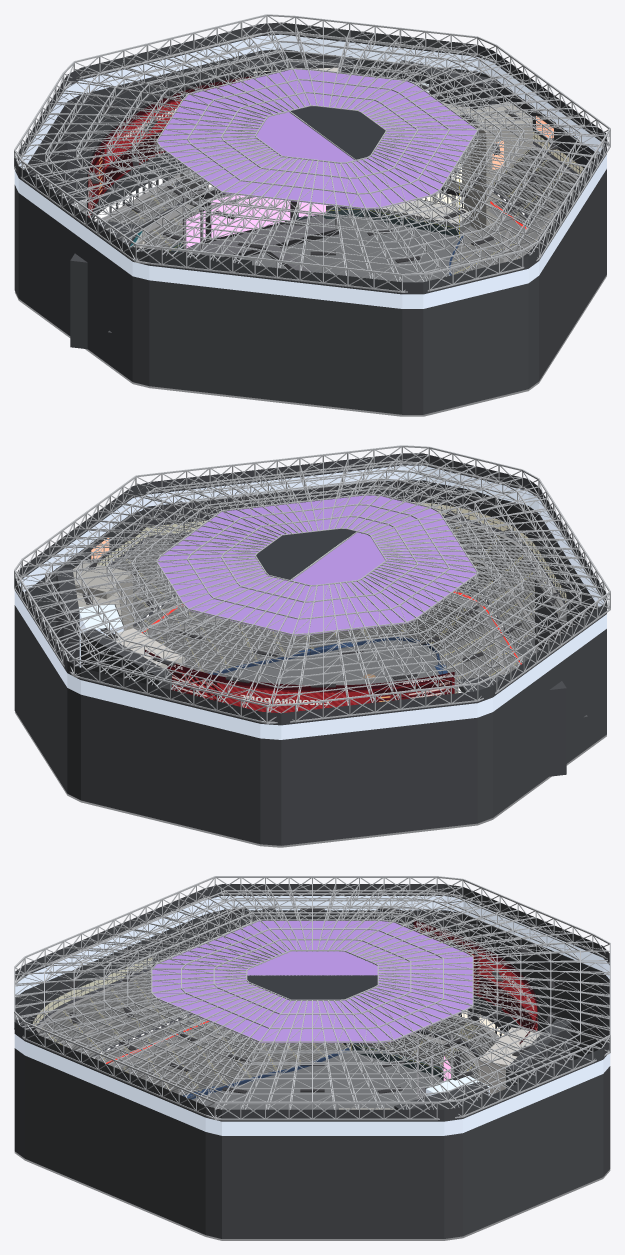
The model's file is stadium.glb.
The picture shows the model from 3 angles, top to bottom: view 1: azimuth 30°, elevation 25°; view 2: azimuth 150°, elevation 25°; view 3: azimuth 270°, elevation 25°; orthographic projection. The views are drawn at different scales.
Visible parts, largest first — view 1: shell_wall, roof_truss, roof_panel_W, roof_panel_E, concert_cover, outfield_buildings, shell_backwall, concert_stage, board_main, stands_U3, stands_walls, concert_led (+9 smaller); view 2: shell_wall, roof_truss, roof_panel_W, roof_panel_E, shell_backwall, stands_L1, board_main, stands_U3, concert_cover, outfield_buildings, stands_walls, hotel (+7 smaller); view 3: shell_wall, roof_truss, roof_panel_E, roof_panel_W, concert_cover, shell_backwall, stands_L1, stands_U3, board_main, stands_walls, roof_lamp_bodies, ground_slab (+8 smaller).
Part boxes in pixels (x1,y1,x2,y2): shell_wall: (14,22,606,414); roof_truss: (14,14,610,292); roof_panel_W: (157,80,404,217); roof_panel_E: (242,68,477,210); concert_cover: (193,218,460,282); outfield_buildings: (180,67,533,234); shell_backwall: (129,56,592,265); concert_stage: (181,188,338,271); board_main: (88,76,252,217); stands_U3: (491,148,576,260); stands_walls: (90,144,577,332); concert_led: (186,195,325,248); shell_wall: (14,453,606,845); roof_truss: (14,445,610,723); roof_panel_W: (241,502,477,643); roof_panel_E: (157,494,405,628); shell_backwall: (56,481,566,689); stands_L1: (151,599,500,693); board_main: (145,649,454,712); stands_U3: (115,520,560,642); concert_cover: (218,640,439,685); outfield_buildings: (73,561,184,668); stands_walls: (111,518,587,717); hotel: (456,674,566,776); shell_wall: (14,884,610,1238); roof_truss: (14,876,610,1120); roof_panel_E: (152,975,472,1050); roof_panel_W: (152,919,472,981); concert_cover: (191,1052,442,1109); shell_backwall: (31,904,571,1109); stands_L1: (117,1032,347,1095); stands_U3: (39,973,187,1056); board_main: (413,921,537,1044); stands_walls: (36,970,522,1068); roof_lamp_bodies: (69,907,555,1093); ground_slab: (14,1031,610,1240).
Size of the model in its own units: 209 by 64.53 by 228.
44 materials, 2 textured.
